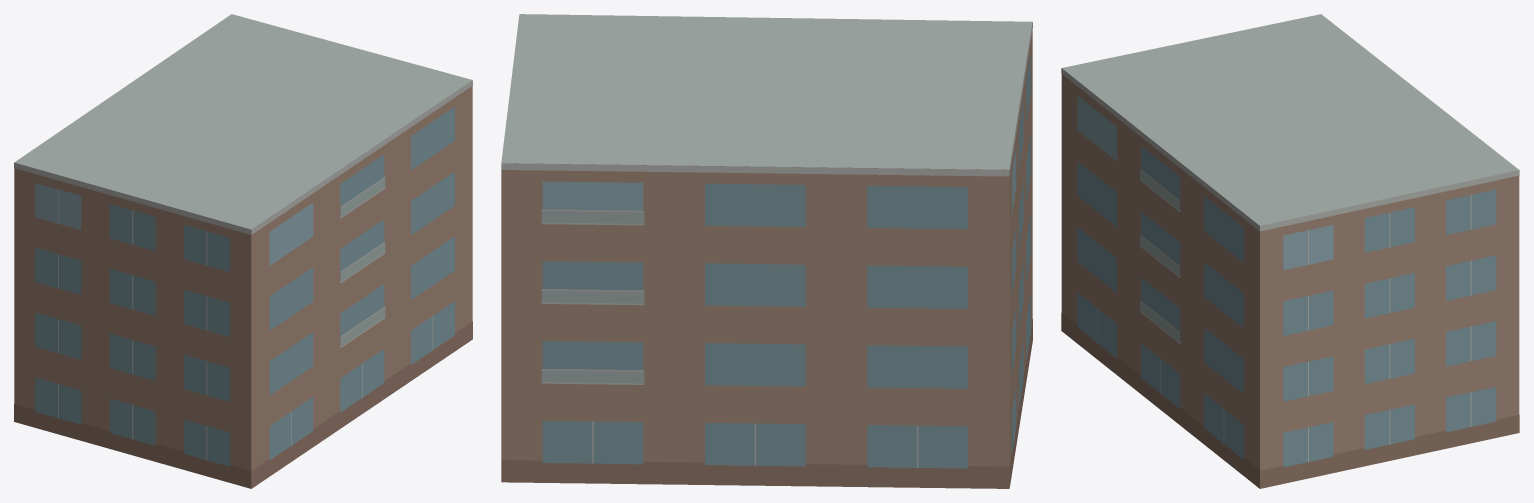
Rendered from survey-upis-32742420.glb.
The picture shows the model from 3 angles, left to right: view 1: azimuth 30°, elevation 25°; view 2: azimuth 150°, elevation 25°; view 3: azimuth 270°, elevation 25°; orthographic projection. The views are drawn at different scales.
Parts seen in each view (by area): view 1: survey-upis-32742420.tmp; view 2: survey-upis-32742420.tmp; view 3: survey-upis-32742420.tmp.
Boxes of the visible parts, x1,y1,x2,y2 form: survey-upis-32742420.tmp: (14, 14, 472, 488); survey-upis-32742420.tmp: (501, 14, 1032, 488); survey-upis-32742420.tmp: (1061, 14, 1519, 488).
Bounding box in the file's own units: 20.07 × 11.6 × 18.32.
